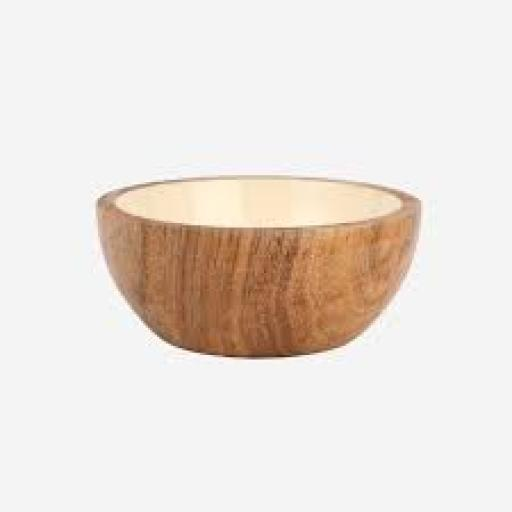Bowl: (98, 175, 421, 357)
